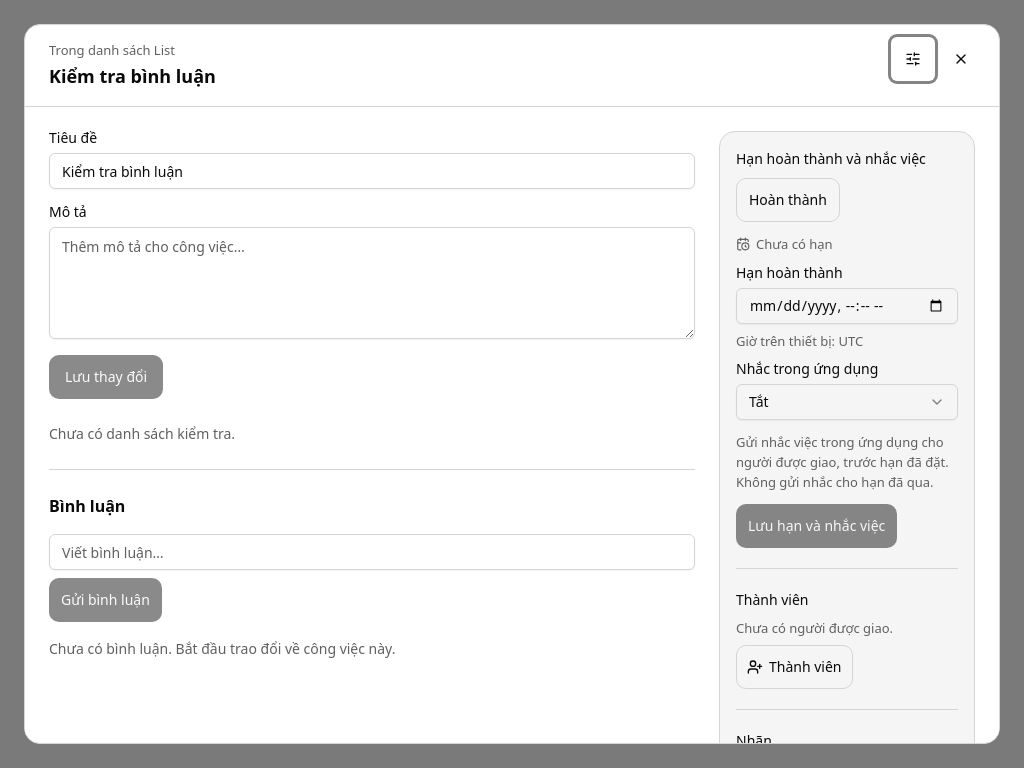
Scenario: adds the returned comment and preserves its canonical ID, author and cardId
Expected: the heading "Kiểm tra bình luận" is shown, left=49, top=63, right=216, bottom=90
Expected: the field labelled "Tiêu đề" is shown, left=49, top=153, right=695, bottom=189
Type "Đã kiểm tra thẻ" into the field with placeholder "Viết bình luận…" at (372, 552), box left=49, top=534, right=695, bottom=570
Then press Enter
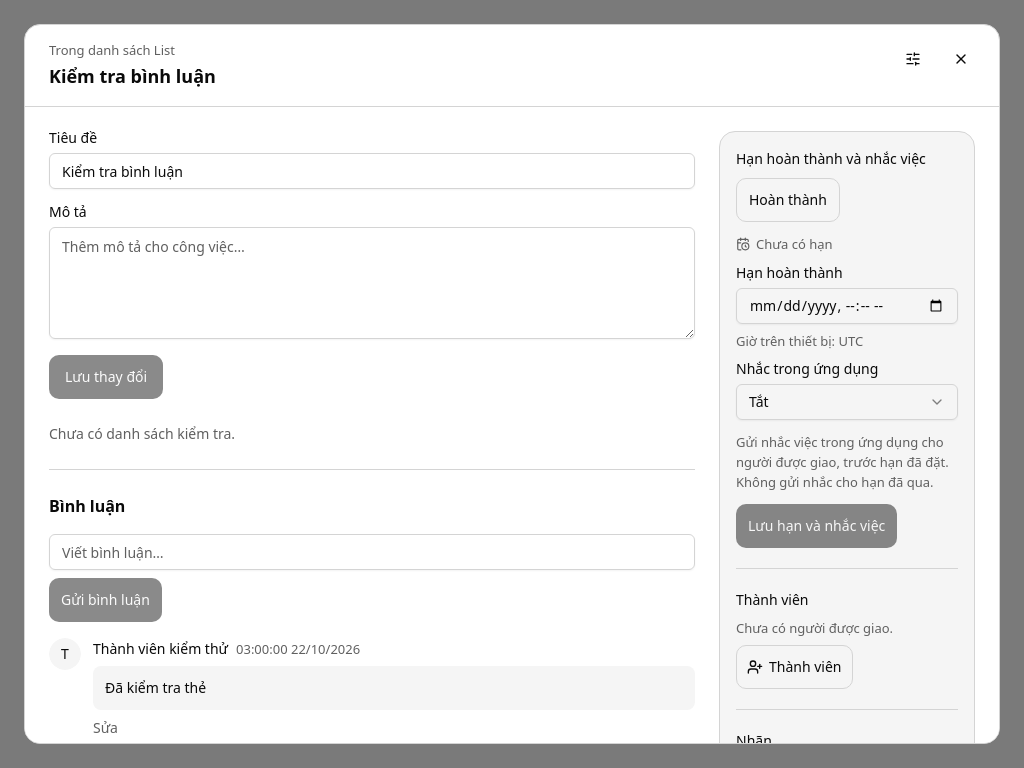
Now the text "Đã kiểm tra thẻ" is shown, box left=93, top=666, right=695, bottom=710
